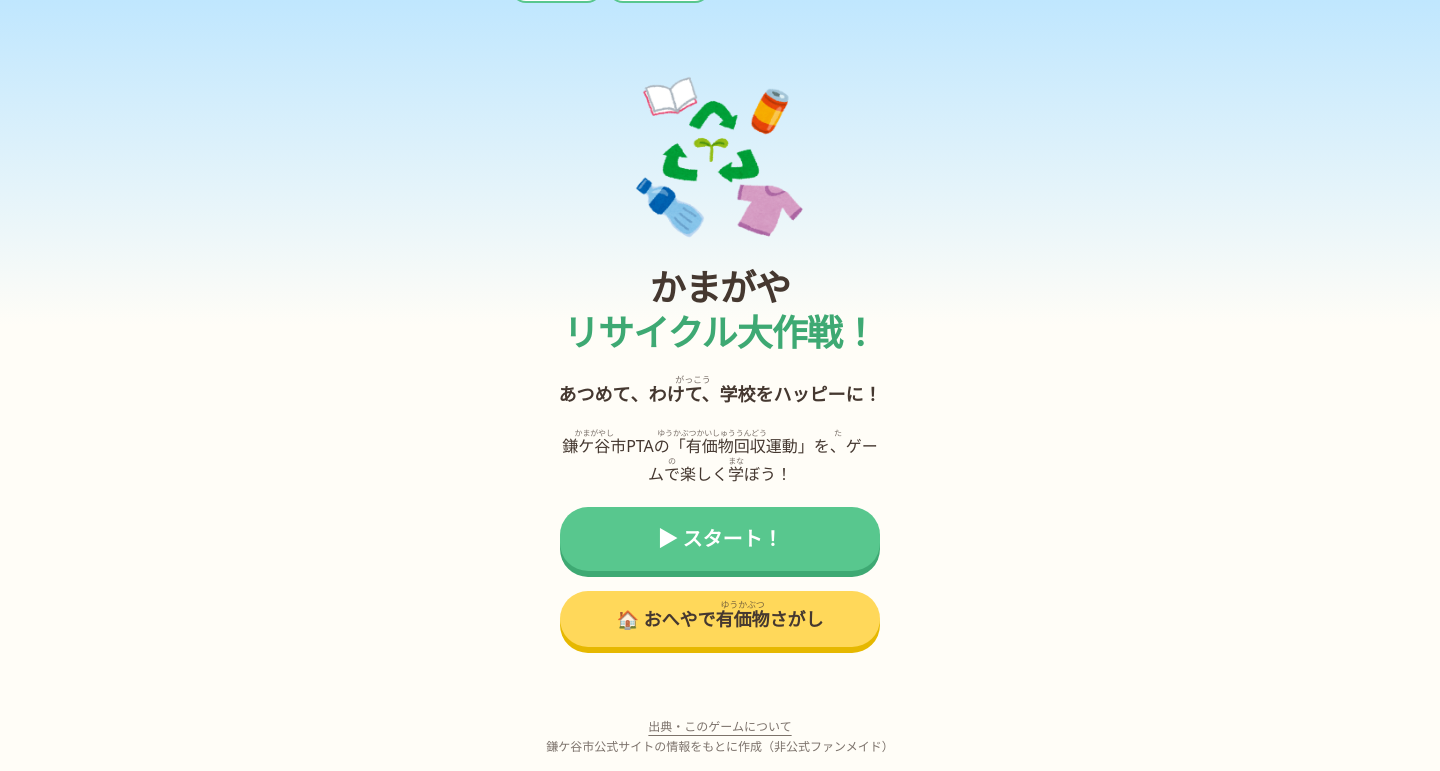
App › 出典画面に公式サイトへのリンクとキャラクターの説明がある
The image size is (1440, 771).
Click the button "出典・このゲームについて".
click(720, 727)  # box [648,719,792,735]
(page scrolled)
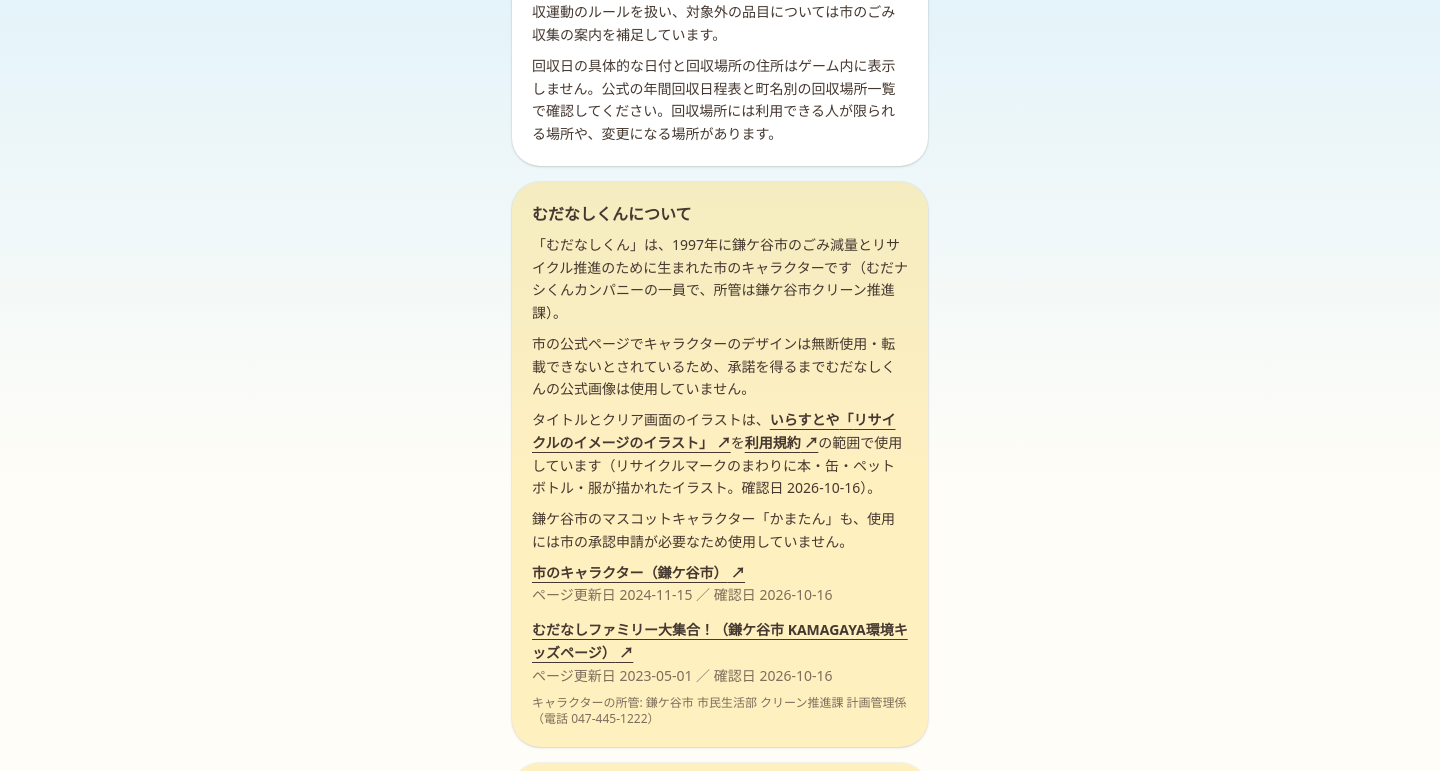
Expected: the text with test id "character-status" shows "むだなしくん", [532,334,896,398]
